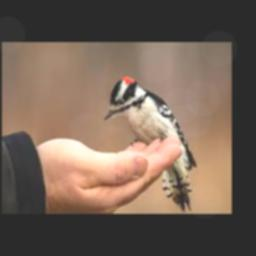Woodpecker: (104, 75, 197, 213)
